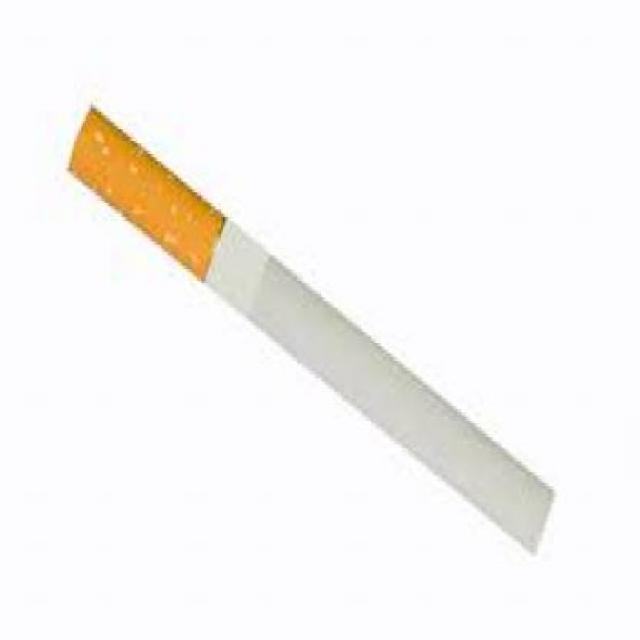cigarette: (67, 91, 573, 563)
